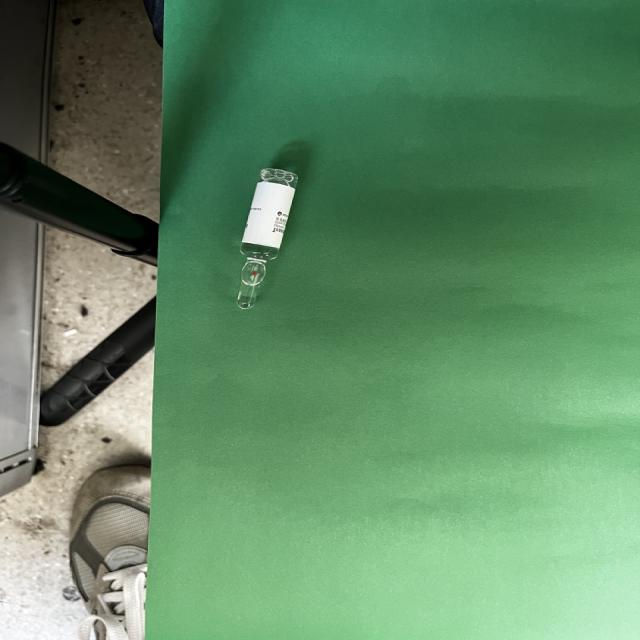Ampoules: (237, 167, 299, 309)
